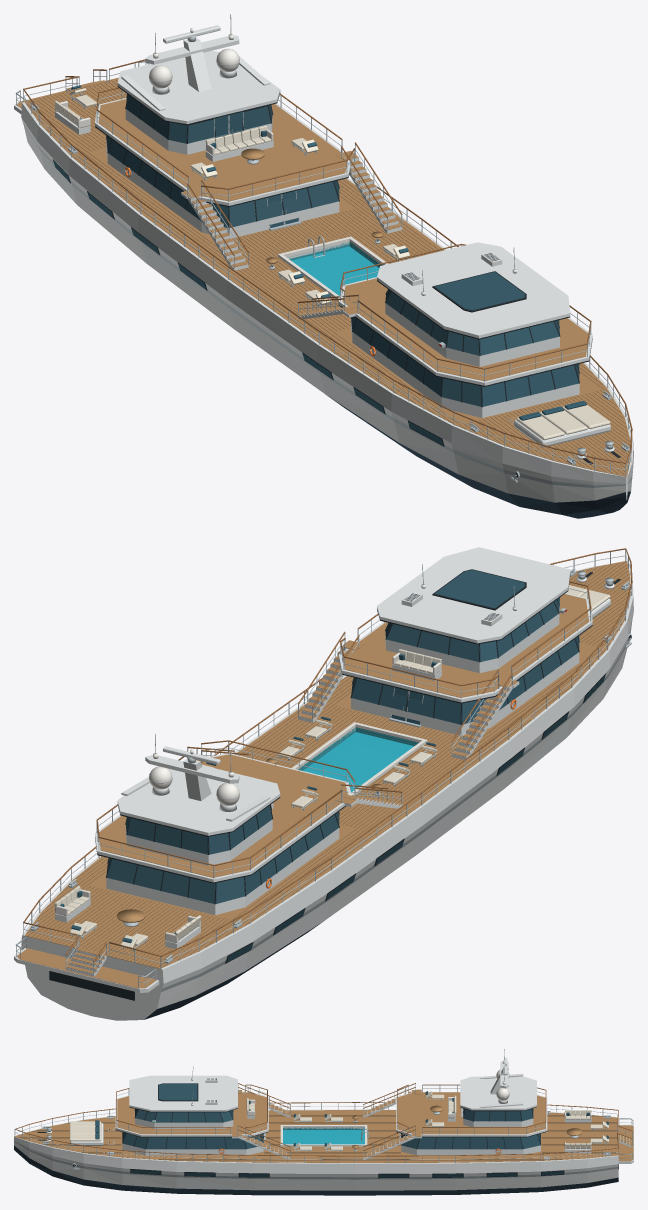
Rendered from yatch.glb.
3 renders of one model, top to bottom at view 1: azimuth 30°, elevation 25°; view 2: azimuth 150°, elevation 25°; view 3: azimuth 270°, elevation 25°, orthographic. The views are drawn at different scales.
Parts seen in each view (by area): view 1: Hull_and_Transom | Pearl white marine composite.001, Main_Teak_Deck | Honey teak decking, Forward_Salon_and_Bridge | Pearl white marine composite, Forward_Salon_and_Bridge | Pearl white marine composite.001, Aft_Lounge_and_Pavilion | Pearl white marine composite.001, Aft_Lounge_and_Pavilion | Honey teak decking, Aft_Lounge_and_Pavilion | Pearl white marine composite, Forward_Salon_and_Bridge | Honey teak decking, Main_Teak_Deck | Teak dark caulking, Luxury_Outdoor_Furnishings | Ivory outdoor upholstery, Stainless_Guardrails | Brushed stainless steel, Stainless_Guardrails | Varnished teak handrail (+15 smaller); view 2: Main_Teak_Deck | Honey teak decking, Hull_and_Transom | Pearl white marine composite.001, Forward_Salon_and_Bridge | Pearl white marine composite.001, Aft_Lounge_and_Pavilion | Pearl white marine composite.001, Forward_Salon_and_Bridge | Pearl white marine composite, Aft_Lounge_and_Pavilion | Pearl white marine composite, Aft_Lounge_and_Pavilion | Honey teak decking, Forward_Salon_and_Bridge | Honey teak decking, Main_Teak_Deck | Teak dark caulking, Stainless_Guardrails | Brushed stainless steel, Stainless_Guardrails | Varnished teak handrail, Luxury_Outdoor_Furnishings | Ivory outdoor upholstery (+17 smaller); view 3: Hull_and_Transom | Pearl white marine composite.001, Main_Teak_Deck | Honey teak decking, Forward_Salon_and_Bridge | Pearl white marine composite, Forward_Salon_and_Bridge | Pearl white marine composite.001, Aft_Lounge_and_Pavilion | Pearl white marine composite.001, Aft_Lounge_and_Pavilion | Honey teak decking, Aft_Lounge_and_Pavilion | Pearl white marine composite, Main_Teak_Deck | Teak dark caulking, Forward_Salon_and_Bridge | Honey teak decking, Stainless_Guardrails | Brushed stainless steel, Luxury_Outdoor_Furnishings | Ivory outdoor upholstery, Stainless_Guardrails | Varnished teak handrail (+19 smaller).
Boxes of the visible parts, left/top/right/bottom form: Hull_and_Transom | Pearl white marine composite.001: left=21, top=103, right=633, bottom=518; Main_Teak_Deck | Honey teak decking: left=25, top=79, right=630, bottom=476; Forward_Salon_and_Bridge | Pearl white marine composite: left=351, top=289, right=579, bottom=417; Forward_Salon_and_Bridge | Pearl white marine composite.001: left=338, top=242, right=592, bottom=385; Aft_Lounge_and_Pavilion | Pearl white marine composite.001: left=106, top=94, right=339, bottom=238; Aft_Lounge_and_Pavilion | Honey teak decking: left=98, top=99, right=347, bottom=201; Aft_Lounge_and_Pavilion | Pearl white marine composite: left=95, top=50, right=351, bottom=205; Forward_Salon_and_Bridge | Honey teak decking: left=342, top=278, right=588, bottom=381; Main_Teak_Deck | Teak dark caulking: left=27, top=80, right=629, bottom=474; Luxury_Outdoor_Furnishings | Ivory outdoor upholstery: left=54, top=88, right=610, bottom=440; Stainless_Guardrails | Brushed stainless steel: left=15, top=61, right=632, bottom=475; Stainless_Guardrails | Varnished teak handrail: left=23, top=59, right=632, bottom=463; Main_Teak_Deck | Honey teak decking: left=24, top=561, right=630, bottom=968; Hull_and_Transom | Pearl white marine composite.001: left=21, top=596, right=633, bottom=1020; Forward_Salon_and_Bridge | Pearl white marine composite.001: left=338, top=547, right=592, bottom=702; Aft_Lounge_and_Pavilion | Pearl white marine composite.001: left=106, top=805, right=339, bottom=915; Forward_Salon_and_Bridge | Pearl white marine composite: left=351, top=597, right=579, bottom=735; Aft_Lounge_and_Pavilion | Pearl white marine composite: left=95, top=753, right=351, bottom=882; Aft_Lounge_and_Pavilion | Honey teak decking: left=99, top=754, right=347, bottom=877; Forward_Salon_and_Bridge | Honey teak decking: left=342, top=594, right=589, bottom=697; Main_Teak_Deck | Teak dark caulking: left=27, top=562, right=629, bottom=967; Stainless_Guardrails | Brushed stainless steel: left=16, top=550, right=632, bottom=987; Stainless_Guardrails | Varnished teak handrail: left=23, top=548, right=632, bottom=956; Luxury_Outdoor_Furnishings | Ivory outdoor upholstery: left=54, top=585, right=610, bottom=947; Hull_and_Transom | Pearl white marine composite.001: left=14, top=1137, right=618, bottom=1195; Main_Teak_Deck | Honey teak decking: left=14, top=1110, right=618, bottom=1162; Forward_Salon_and_Bridge | Pearl white marine composite: left=122, top=1109, right=263, bottom=1155; Forward_Salon_and_Bridge | Pearl white marine composite.001: left=115, top=1075, right=268, bottom=1136; Aft_Lounge_and_Pavilion | Pearl white marine composite.001: left=401, top=1108, right=540, bottom=1155; Aft_Lounge_and_Pavilion | Honey teak decking: left=398, top=1092, right=545, bottom=1134; Aft_Lounge_and_Pavilion | Pearl white marine composite: left=396, top=1073, right=547, bottom=1136; Main_Teak_Deck | Teak dark caulking: left=19, top=1115, right=618, bottom=1160; Forward_Salon_and_Bridge | Honey teak decking: left=117, top=1092, right=266, bottom=1134; Stainless_Guardrails | Brushed stainless steel: left=14, top=1085, right=633, bottom=1163; Luxury_Outdoor_Furnishings | Ivory outdoor upholstery: left=70, top=1091, right=608, bottom=1150; Stainless_Guardrails | Varnished teak handrail: left=15, top=1084, right=618, bottom=1156.
Size of the model in its own units: 0.422 by 0.4353 by 2.
